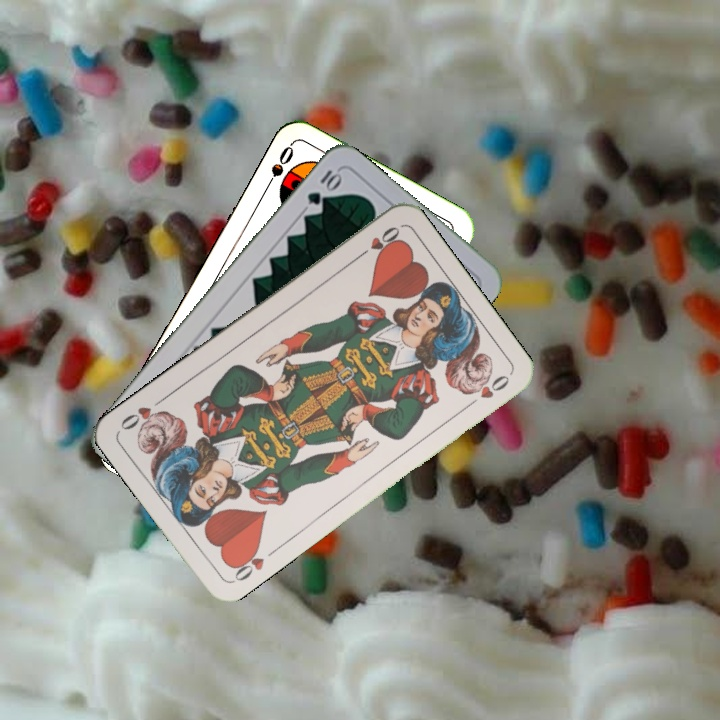G10: (302, 165, 344, 208)
HO: (351, 222, 403, 263), (226, 542, 267, 585)
SO: (259, 141, 297, 196)
